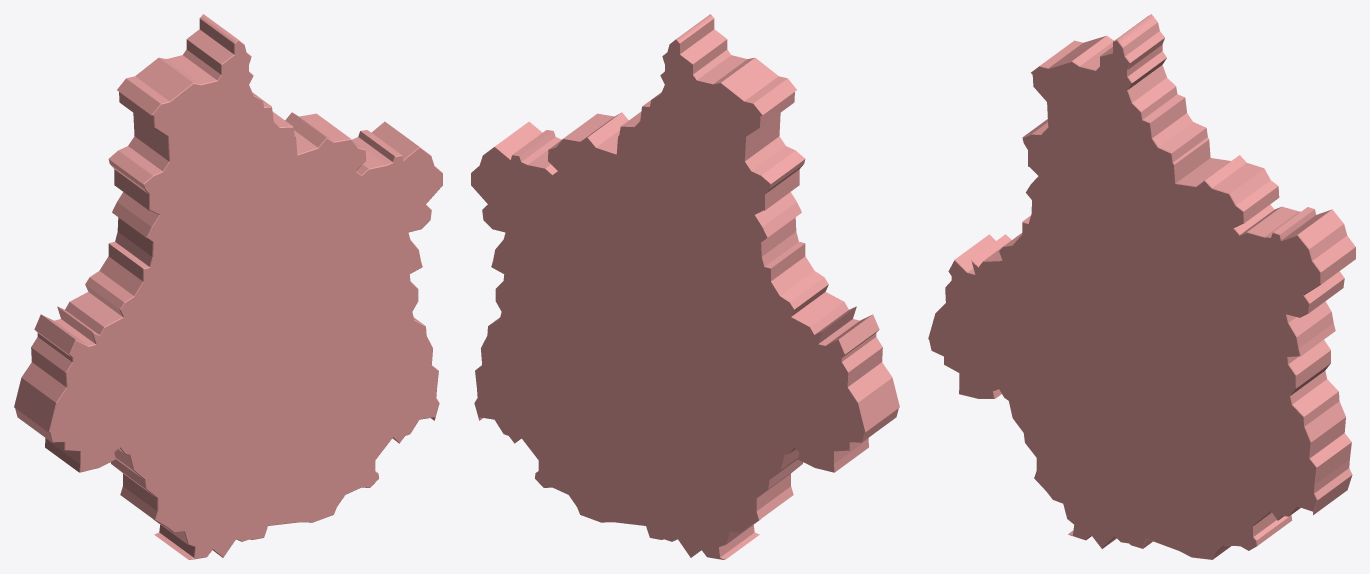
File: CentreValDeLoire.glb
3 renders of one model, left to right at view 1: azimuth 30°, elevation 25°; view 2: azimuth 150°, elevation 25°; view 3: azimuth 330°, elevation 25°, orthographic.
Visible parts, largest first — view 1: Centre-Val de Loire; view 2: Centre-Val de Loire; view 3: Centre-Val de Loire.
Boxes of the visible parts, x1,y1,x2,y2 form: Centre-Val de Loire: (14, 14, 442, 559); Centre-Val de Loire: (471, 14, 899, 559); Centre-Val de Loire: (928, 14, 1355, 559).
Bounding box in the file's own units: 0.8356 × 1.04 × 0.1283.
